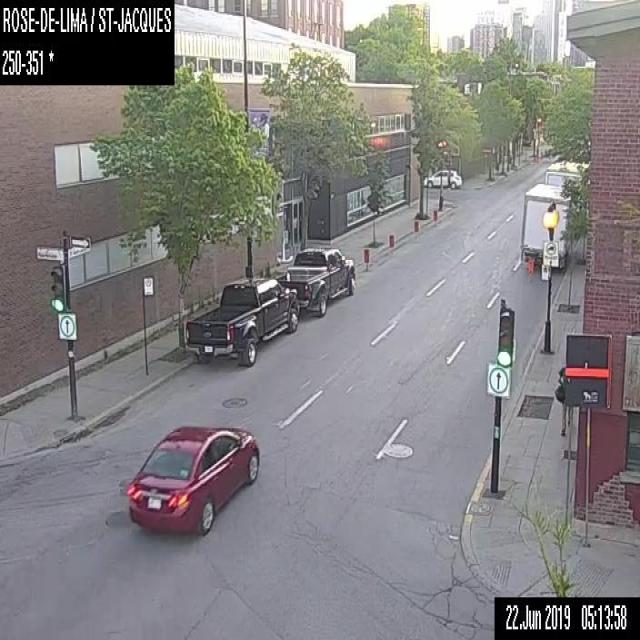construction: (412, 216, 418, 240), (387, 233, 393, 255), (362, 248, 368, 269), (432, 208, 437, 231)
vehicle: (126, 421, 259, 536), (182, 279, 299, 365), (277, 246, 353, 316), (520, 180, 578, 270), (422, 168, 462, 187), (447, 167, 448, 168)
